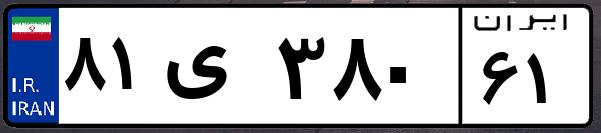0: (385, 28, 445, 110)
1: (525, 38, 570, 115), (110, 28, 158, 98)
3: (270, 28, 330, 110)
6: (475, 38, 525, 113)
8: (330, 28, 385, 110), (57, 26, 110, 100)
ی: (158, 20, 270, 120)
